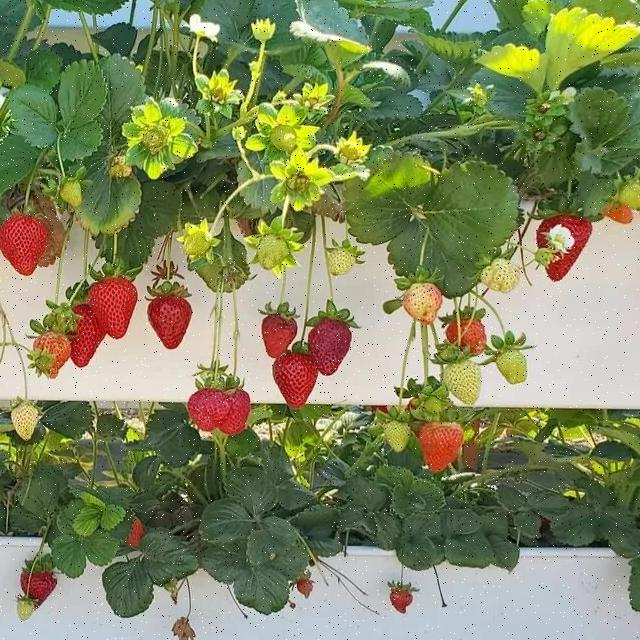Ripe Strawberry: (0, 202, 51, 281), (539, 216, 595, 285), (406, 417, 468, 475), (311, 304, 355, 375), (90, 276, 141, 335), (57, 304, 102, 370), (271, 358, 325, 412), (154, 286, 192, 350), (184, 378, 227, 434), (259, 296, 297, 352), (19, 558, 59, 611), (389, 582, 421, 621), (115, 513, 146, 549), (238, 383, 251, 443), (296, 575, 316, 600)
